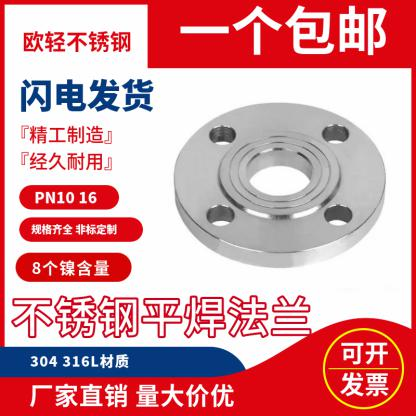FOD: (166, 96, 389, 272)
